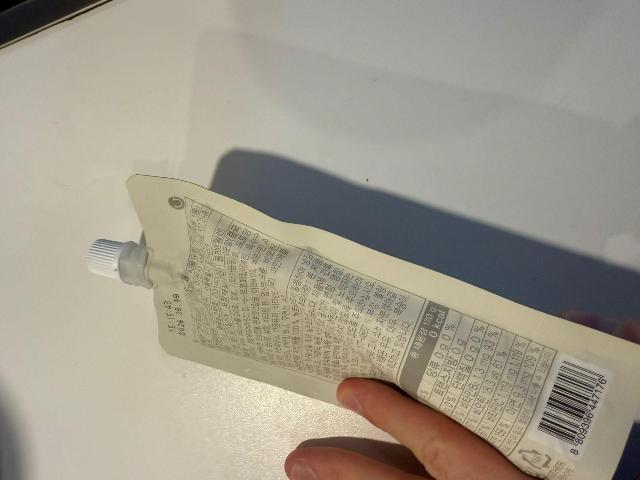Kagit: (128, 175, 640, 480)
Plastik: (119, 243, 146, 288), (87, 238, 120, 273)
